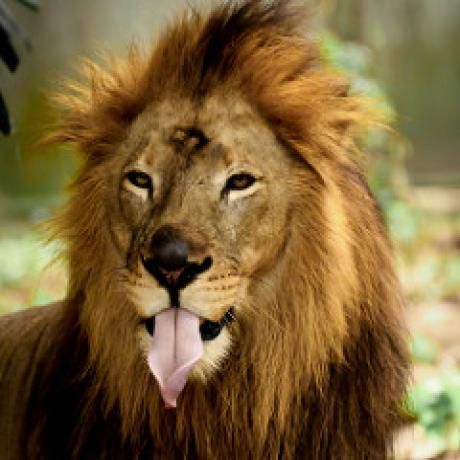Lion: (0, 0, 413, 460)
